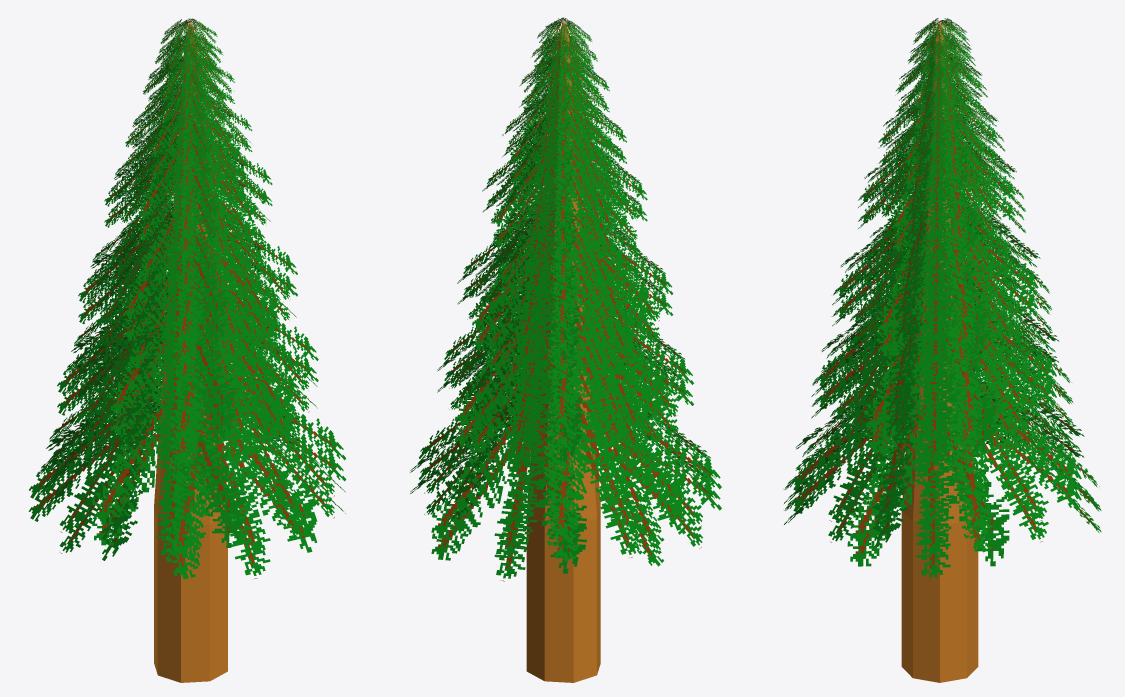
Rendered from Tree.fbx.
3 views of the same model, side by side, from view 1: azimuth 30°, elevation 25°; view 2: azimuth 150°, elevation 25°; view 3: azimuth 270°, elevation 25° (orthographic).
Parts seen in each view (by area): view 1: Plane.239, Plane.001, Tree; view 2: Plane.239, Tree, Plane.001; view 3: Plane.239, Plane.001, Tree.
Boxes of the visible parts, x1,y1,x2,y2 form: Plane.239: [28, 18, 346, 579]; Plane.001: [29, 22, 341, 578]; Tree: [154, 23, 227, 682]; Plane.239: [410, 17, 721, 581]; Tree: [526, 22, 600, 682]; Plane.001: [419, 18, 719, 575]; Plane.239: [784, 18, 1101, 580]; Plane.001: [787, 21, 1098, 577]; Tree: [901, 22, 978, 682].
Bounding box in the file's own units: 863 × 1864 × 896.
